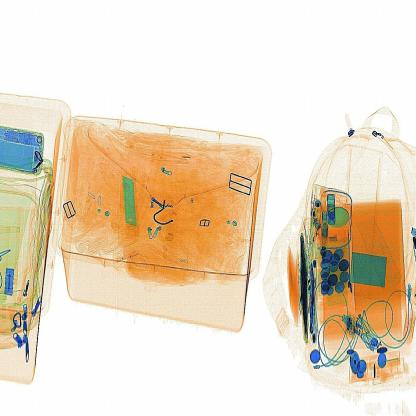pliers: (115, 169, 149, 253)
